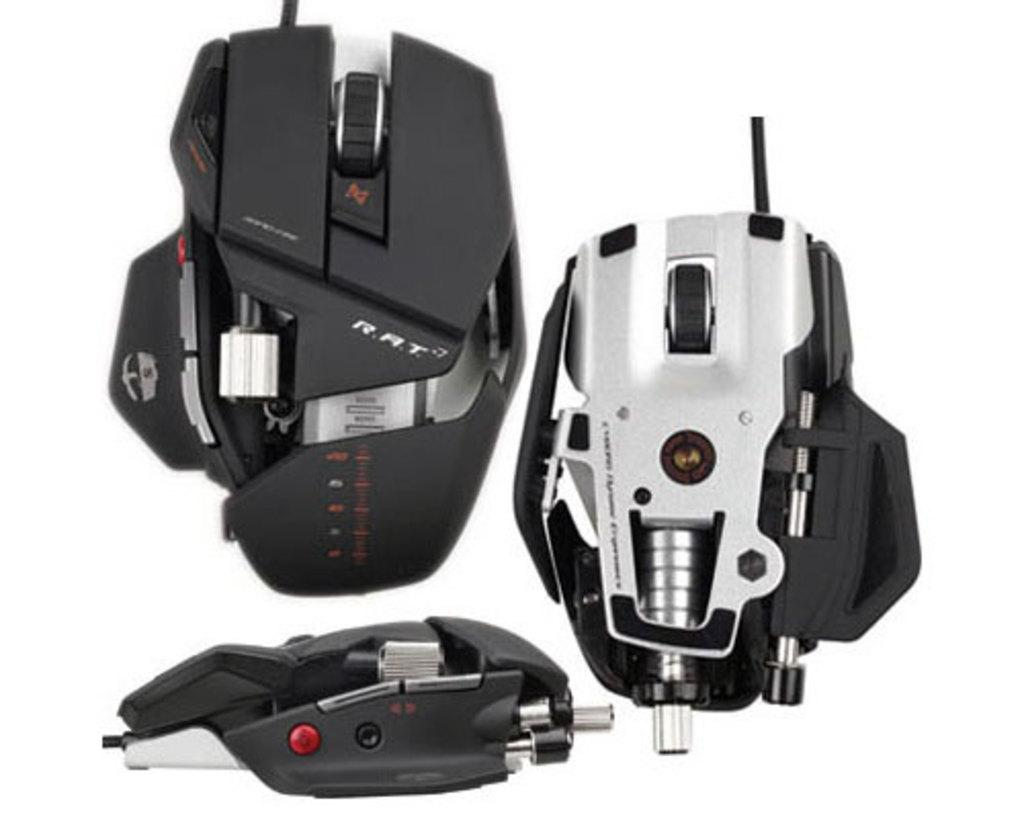Computer-mouse: (106, 27, 530, 596), (508, 207, 926, 758), (96, 610, 618, 805)
